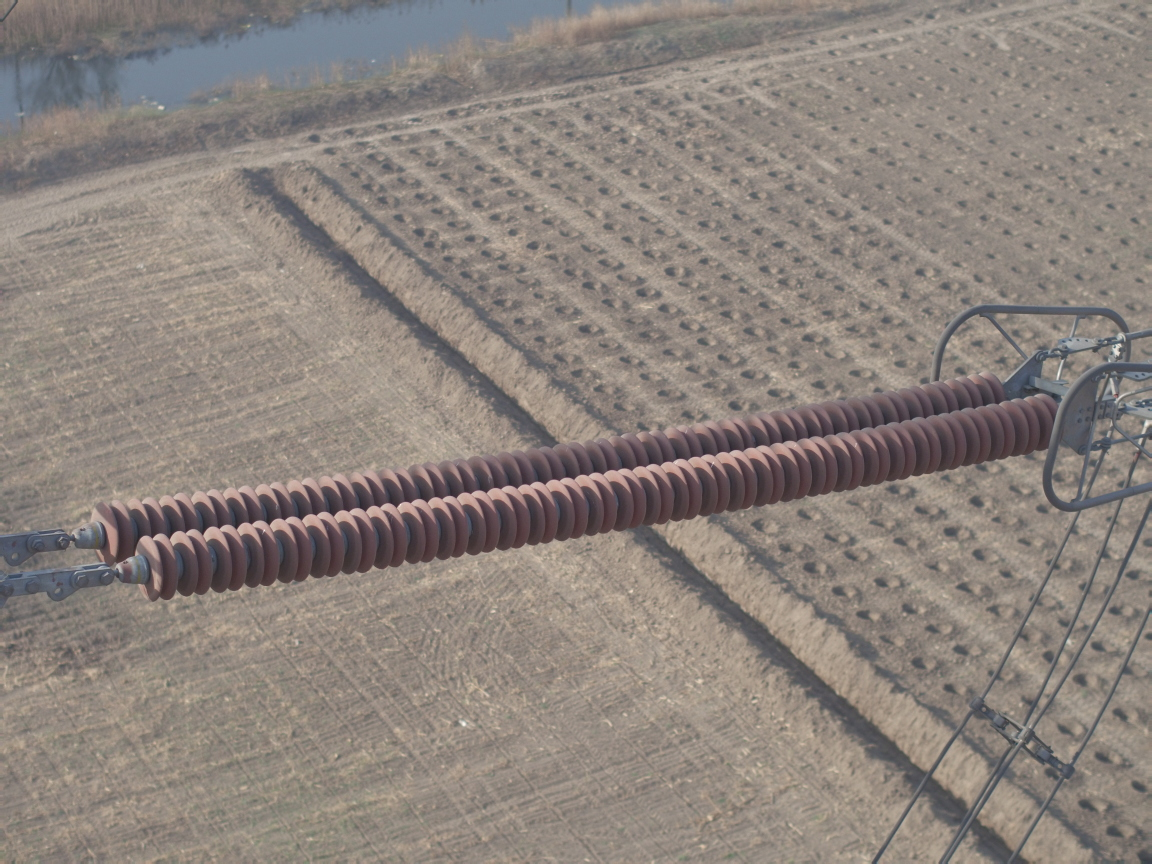insulator: (35, 364, 1081, 607)
